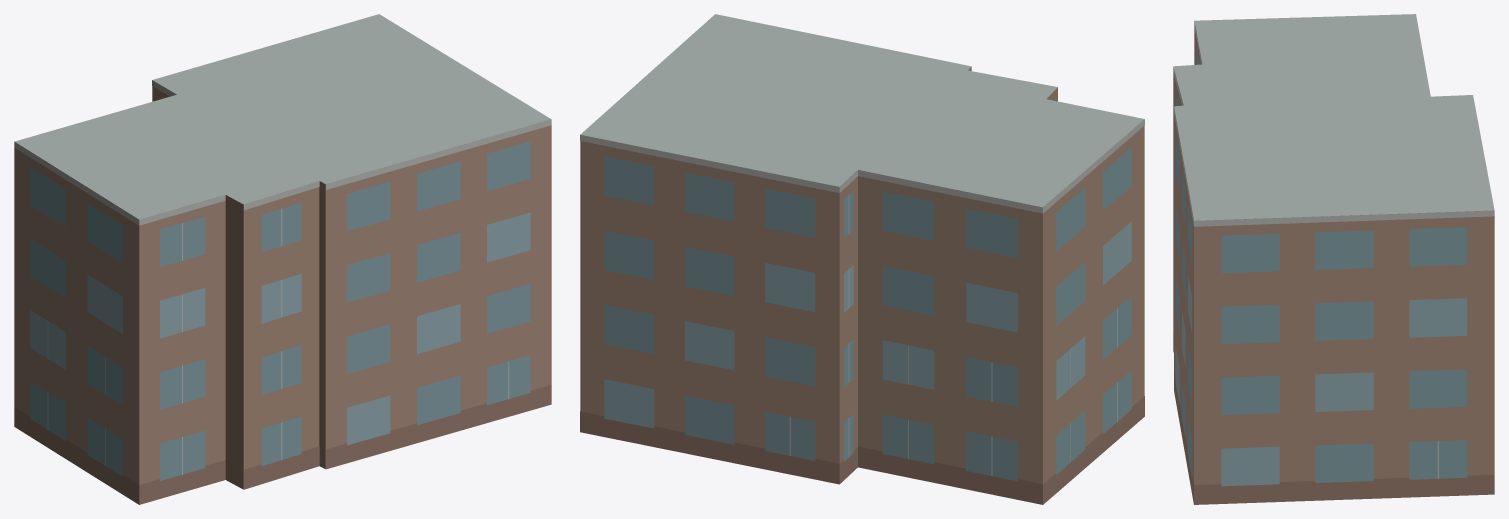
Rendered from survey-upis-32757081.glb.
The picture shows the model from 3 angles, left to right: view 1: azimuth 30°, elevation 25°; view 2: azimuth 150°, elevation 25°; view 3: azimuth 270°, elevation 25°; orthographic projection. The views are drawn at different scales.
Parts seen in each view (by area): view 1: survey-upis-32757081.tmp; view 2: survey-upis-32757081.tmp; view 3: survey-upis-32757081.tmp.
Boxes of the visible parts, x1,y1,x2,y2 form: survey-upis-32757081.tmp: (14, 14, 551, 504); survey-upis-32757081.tmp: (580, 14, 1144, 504); survey-upis-32757081.tmp: (1173, 14, 1494, 504).
Bounding box in the file's own units: 18.2 × 11.65 × 11.96.
